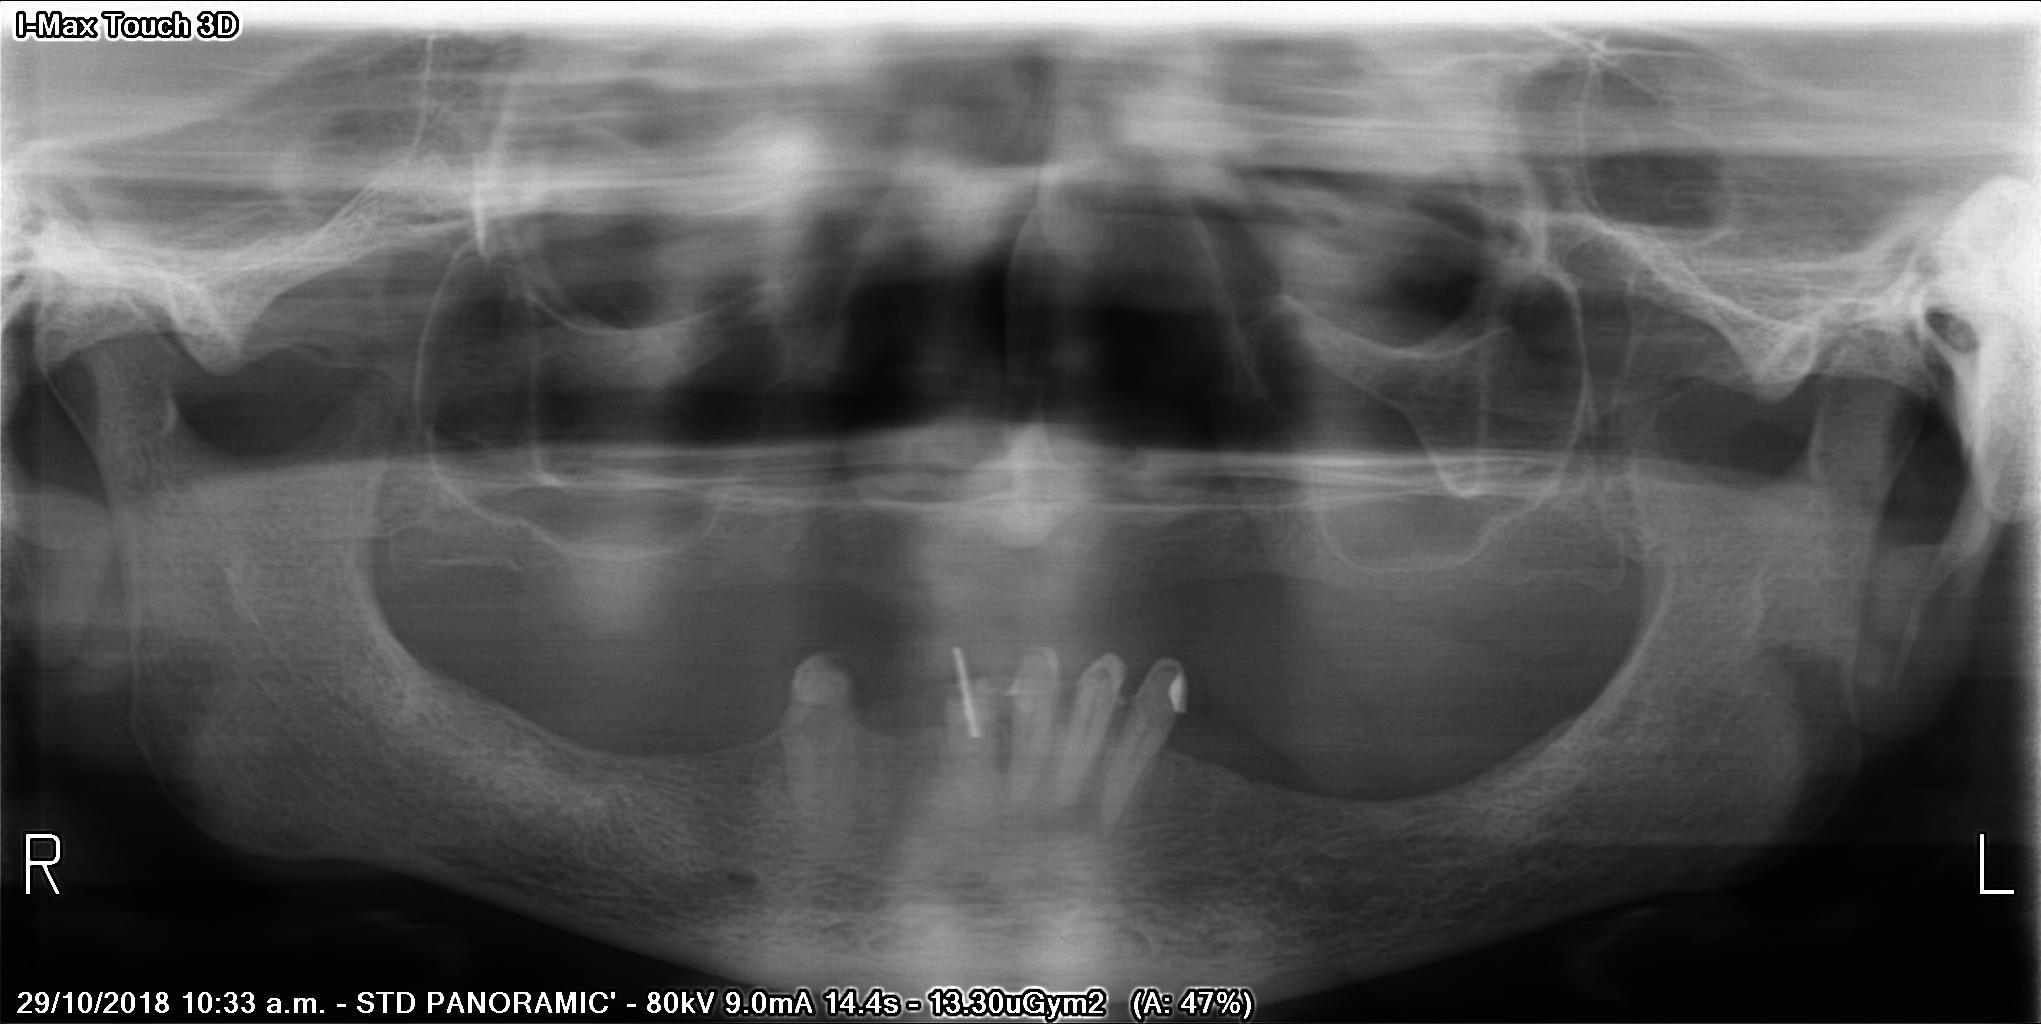Çürük: (1163, 662, 1194, 721)
